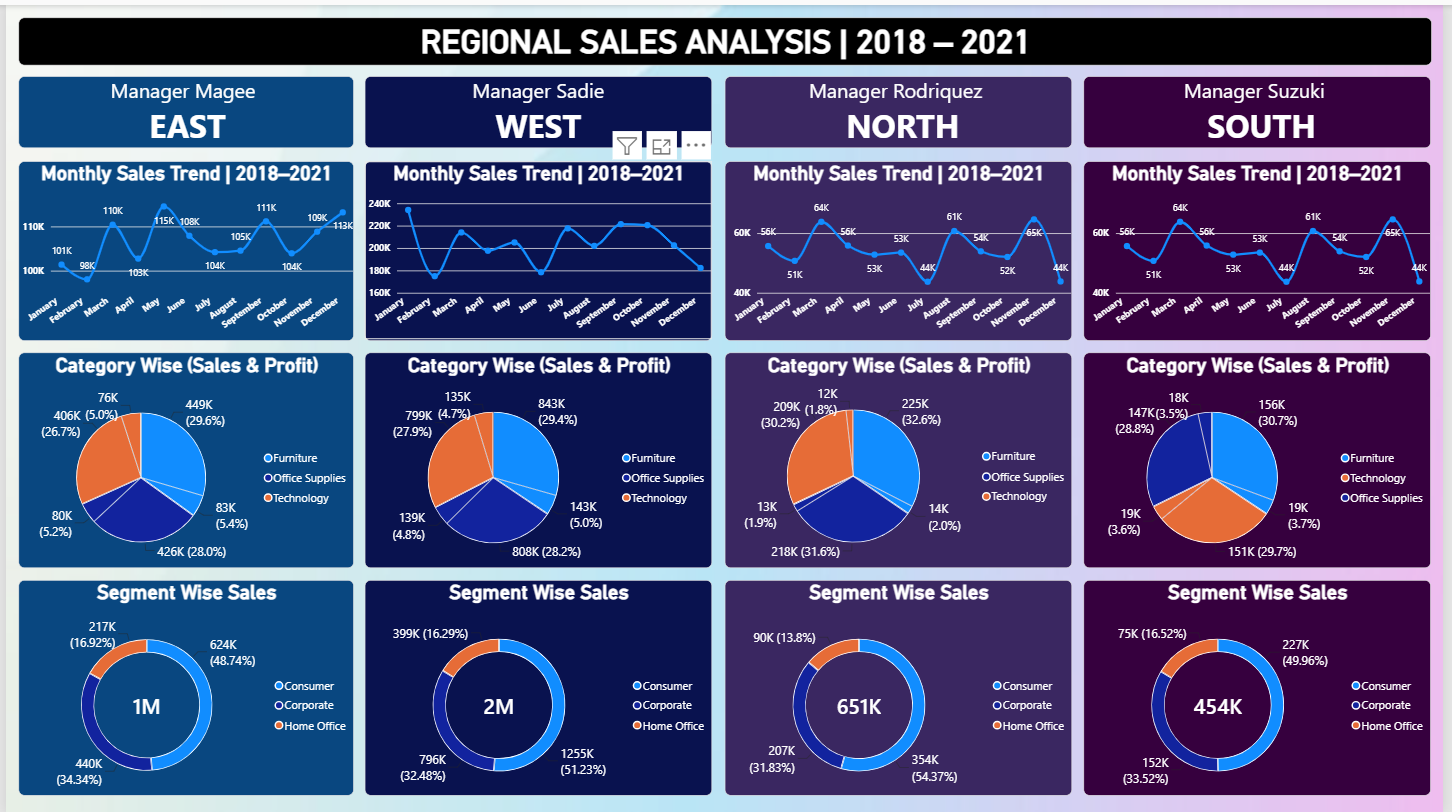

What the dashboard file says about the page in this screenshot:
{"tool":"powerbi","page":{"name":"Page 1","canvas":[1920,1080],"ordinal":0},"visuals":[{"type":"textbox","box":[480,96,464,96],"z":0},{"type":"textbox","box":[16,96,448,96],"z":1000},{"type":"textbox","box":[960,96,464,96],"z":2000},{"type":"textbox","box":[1440,96,464,96],"z":3000},{"type":"shape","title":" REGIONAL SALES ANALYSIS | 2018 – 2021","box":[16,16,1888,64],"z":4000},{"type":"pieChart","title":" Category Wise (Sales & Profit)","fields":{"Y":["Sum(Regional sales data.Sales)","Sum(Regional sales data.Profit)"],"Category":["Regional sales data.Category"]},"box":[16,464,448,288],"z":5000},{"type":"pieChart","title":" Category Wise (Sales & Profit)","fields":{"Y":["Sum(Regional sales data.Sales)","Sum(Regional sales data.Profit)"],"Category":["Regional sales data.Category"]},"box":[480,464,464,288],"z":6000},{"type":"pieChart","title":" Category Wise (Sales & Profit)","fields":{"Y":["Sum(Regional sales data.Sales)","Sum(Regional sales data.Profit)"],"Category":["Regional sales data.Category"]},"box":[1440,464,464,288],"z":7000},{"type":"pieChart","title":" Category Wise (Sales & Profit)","fields":{"Y":["Sum(Regional sales data.Sales)","Sum(Regional sales data.Profit)"],"Category":["Regional sales data.Category"]},"box":[960,464,464,288],"z":8000},{"type":"lineChart","title":" Monthly Sales Trend | 2018–2021","fields":{"Category":["Regional sales data.Order Date.Variation.Date Hierarchy.Month"],"Y":["Sum(Regional sales data.Sales)"]},"box":[16,208,448,240],"z":9000},{"type":"lineChart","title":"  Monthly Sales Trend | 2018–2021","fields":{"Category":["Regional sales data.Order Date.Variation.Date Hierarchy.Month"],"Y":["Sum(Regional sales data.Sales)"]},"box":[480,208,464,240],"z":10000},{"type":"lineChart","title":"  Monthly Sales Trend | 2018–2021","fields":{"Category":["Regional sales data.Order Date.Variation.Date Hierarchy.Month"],"Y":["Sum(Regional sales data.Sales)"]},"box":[960,208,464,240],"z":11000},{"type":"lineChart","title":"  Monthly Sales Trend | 2018–2021","fields":{"Category":["Regional sales data.Order Date.Variation.Date Hierarchy.Month"],"Y":["Sum(Regional sales data.Sales)"]},"box":[1440,208,464,240],"z":12000},{"type":"donutChart","title":" Segment Wise Sales","fields":{"Y":["Sum(Regional sales data.Sales)"],"Category":["Regional sales data.Segment"]},"box":[16,768,448,288],"z":13000},{"type":"donutChart","title":"  Segment Wise Sales","fields":{"Y":["Sum(Regional sales data.Sales)"],"Category":["Regional sales data.Segment"]},"box":[480,768,464,288],"z":14000},{"type":"donutChart","title":"  Segment Wise Sales","fields":{"Y":["Sum(Regional sales data.Sales)"],"Category":["Regional sales data.Segment"]},"box":[960,768,464,288],"z":15000},{"type":"donutChart","title":"  Segment Wise Sales","fields":{"Y":["Sum(Regional sales data.Sales)"],"Category":["Regional sales data.Segment"]},"box":[1440,768,464,288],"z":16000}]}

Visuals, with their boxes in screenshot pixels (x1, y1, x2, y2), scaled from the page's 1920x1080 canvas onto the 1452x812 screenshot:
textbox: l=363, t=72, r=714, b=144
textbox: l=12, t=72, r=351, b=144
textbox: l=726, t=72, r=1077, b=144
textbox: l=1089, t=72, r=1440, b=144
" REGIONAL SALES ANALYSIS | 2018 – 2021" shape: l=12, t=12, r=1440, b=60
" Category Wise (Sales & Profit)" pieChart: l=12, t=349, r=351, b=565
" Category Wise (Sales & Profit)" pieChart: l=363, t=349, r=714, b=565
" Category Wise (Sales & Profit)" pieChart: l=1089, t=349, r=1440, b=565
" Category Wise (Sales & Profit)" pieChart: l=726, t=349, r=1077, b=565
" Monthly Sales Trend | 2018–2021" lineChart: l=12, t=156, r=351, b=337
"  Monthly Sales Trend | 2018–2021" lineChart: l=363, t=156, r=714, b=337
"  Monthly Sales Trend | 2018–2021" lineChart: l=726, t=156, r=1077, b=337
"  Monthly Sales Trend | 2018–2021" lineChart: l=1089, t=156, r=1440, b=337
" Segment Wise Sales" donutChart: l=12, t=577, r=351, b=794
"  Segment Wise Sales" donutChart: l=363, t=577, r=714, b=794
"  Segment Wise Sales" donutChart: l=726, t=577, r=1077, b=794
"  Segment Wise Sales" donutChart: l=1089, t=577, r=1440, b=794
